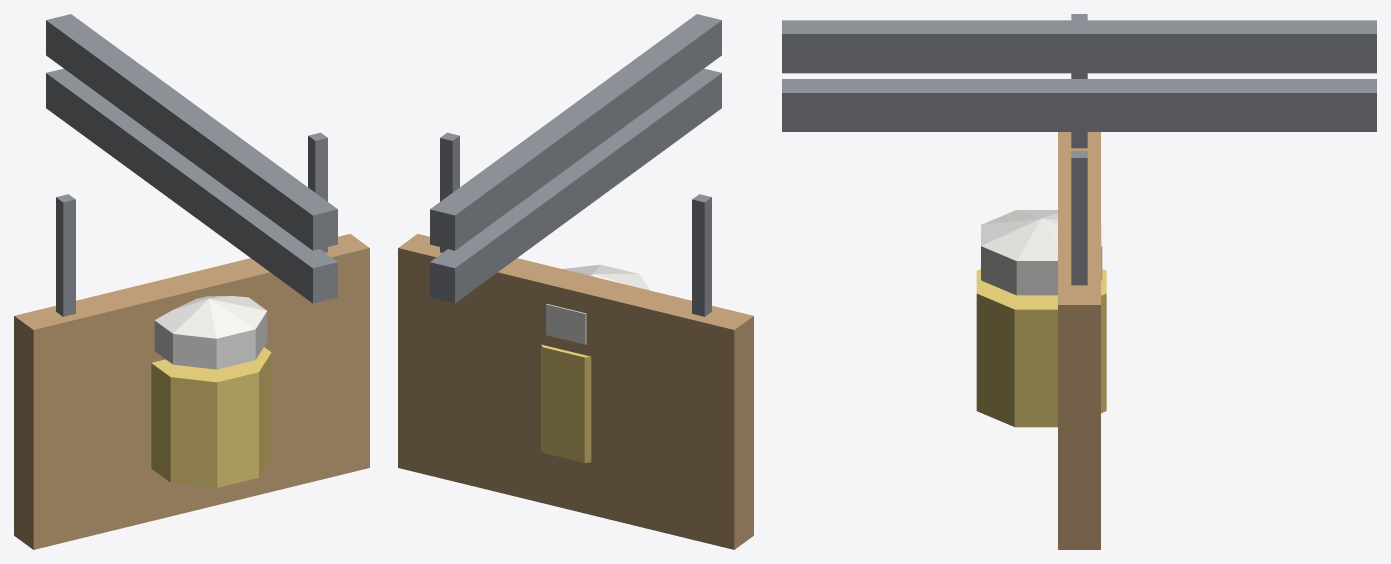
File: hanging_sign.glb
3 renders of one model, left to right at view 1: azimuth 30°, elevation 25°; view 2: azimuth 150°, elevation 25°; view 3: azimuth 270°, elevation 25°, orthographic. The views are drawn at different scales.
Parts seen in each view (by area): view 1: Player; view 2: Player; view 3: Player.
Part boxes in pixels (left/top/right/bottom): Player: left=14, top=14, right=369, bottom=549; Player: left=398, top=14, right=753, bottom=549; Player: left=782, top=14, right=1376, bottom=549.
Bounding box in the file's own units: 0.8 × 0.88 × 1.1.
